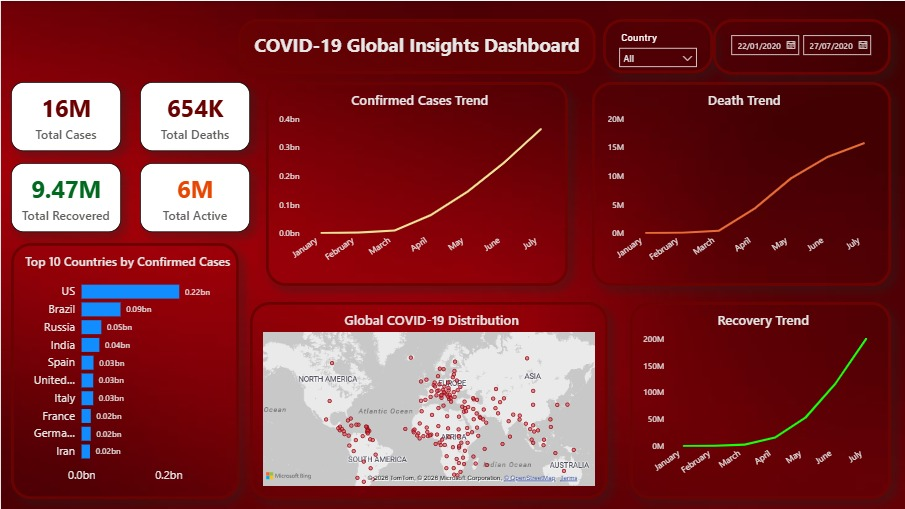

The page's visual inventory and layout, read from the dashboard file:
{"tool":"powerbi","page":{"name":"Page 1","canvas":[1280,720],"ordinal":0},"visuals":[{"type":"textbox","box":[335.9,25.5,507.4,78],"z":0},{"type":"card","fields":{"Values":["country_wise_latest.Total Cases"]},"box":[14.2,114.8,155.9,97.8],"z":1000},{"type":"card","fields":{"Values":["country_wise_latest.Total Recovered"]},"box":[14.2,229.6,155.9,97.8],"z":2000},{"type":"card","fields":{"Values":["country_wise_latest.Total Active"]},"box":[197,229.6,155.9,97.8],"z":3000},{"type":"card","fields":{"Values":["country_wise_latest.Total Deaths"]},"box":[197,114.8,155.9,97.8],"z":4000},{"type":"lineChart","title":"Confirmed Cases Trend","fields":{"Y":["Sum(covid_19_clean_complete.Confirmed)"],"Category":["covid_19_clean_complete.Date.Variation.Date Hierarchy.Month"]},"box":[375.6,114.8,428,289.1],"z":5000},{"type":"lineChart","title":"Death Trend","fields":{"Category":["covid_19_clean_complete.Date.Variation.Date Hierarchy.Month"],"Y":["Sum(covid_19_clean_complete.Deaths)"]},"box":[837.6,114.8,423.8,289.1],"z":6000},{"type":"lineChart","title":"Recovery Trend","fields":{"Category":["covid_19_clean_complete.Date.Variation.Date Hierarchy.Month"],"Y":["Sum(covid_19_clean_complete.Recovered)"]},"box":[891.5,426.6,369.9,279.2],"z":7000},{"type":"map","title":"Global COVID-19 Distribution","fields":{"Category":["covid_19_clean_complete.Country"]},"box":[352.9,426.6,507.4,279.2],"z":8000},{"type":"clusteredBarChart","title":"Top 10 Countries by Confirmed Cases","fields":{"Category":["covid_19_clean_complete.Country"],"Y":["Sum(covid_19_clean_complete.Confirmed)"]},"box":[14.2,343,323.1,362.8],"z":9000},{"type":"slicer","fields":{"Values":["covid_19_clean_complete.Country"]},"box":[853.2,25.5,155.9,76.5],"z":10000},{"type":"slicer","fields":{"Values":["covid_19_clean_complete.Date"]},"box":[1009.1,25.5,252.3,79.4],"z":11000}]}

Visuals, with their boxes in screenshot pixels (x1, y1, x2, y2), scaled from the page's 1280x720 canvas onto the 905x509 screenshot:
textbox: box(237, 18, 596, 73)
card - country_wise_latest.Total Cases: box(10, 81, 120, 150)
card - country_wise_latest.Total Recovered: box(10, 162, 120, 231)
card - country_wise_latest.Total Active: box(139, 162, 250, 231)
card - country_wise_latest.Total Deaths: box(139, 81, 250, 150)
"Confirmed Cases Trend" lineChart: box(266, 81, 568, 286)
"Death Trend" lineChart: box(592, 81, 892, 286)
"Recovery Trend" lineChart: box(630, 302, 892, 499)
"Global COVID-19 Distribution" map: box(250, 302, 608, 499)
"Top 10 Countries by Confirmed Cases" clusteredBarChart: box(10, 242, 238, 499)
slicer - covid_19_clean_complete.Country: box(603, 18, 713, 72)
slicer - covid_19_clean_complete.Date: box(713, 18, 892, 74)
